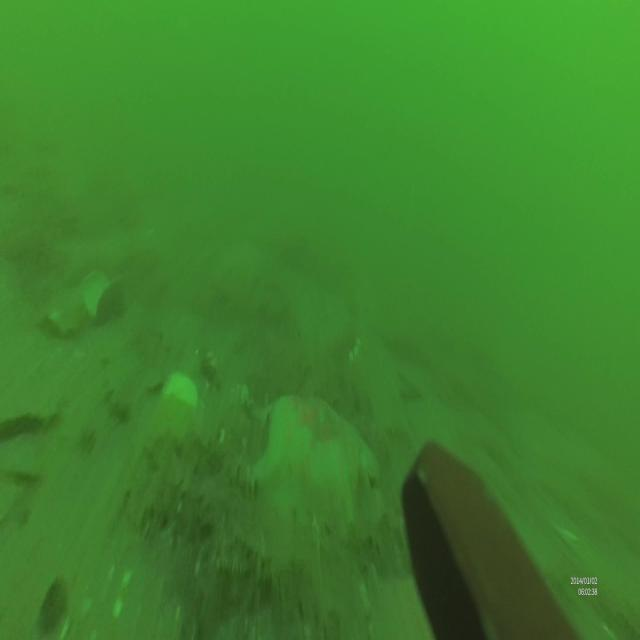starfish: (257, 393, 378, 512)
